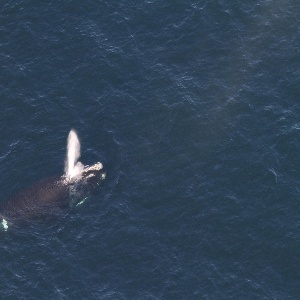cetacean: (1, 161, 105, 229)
